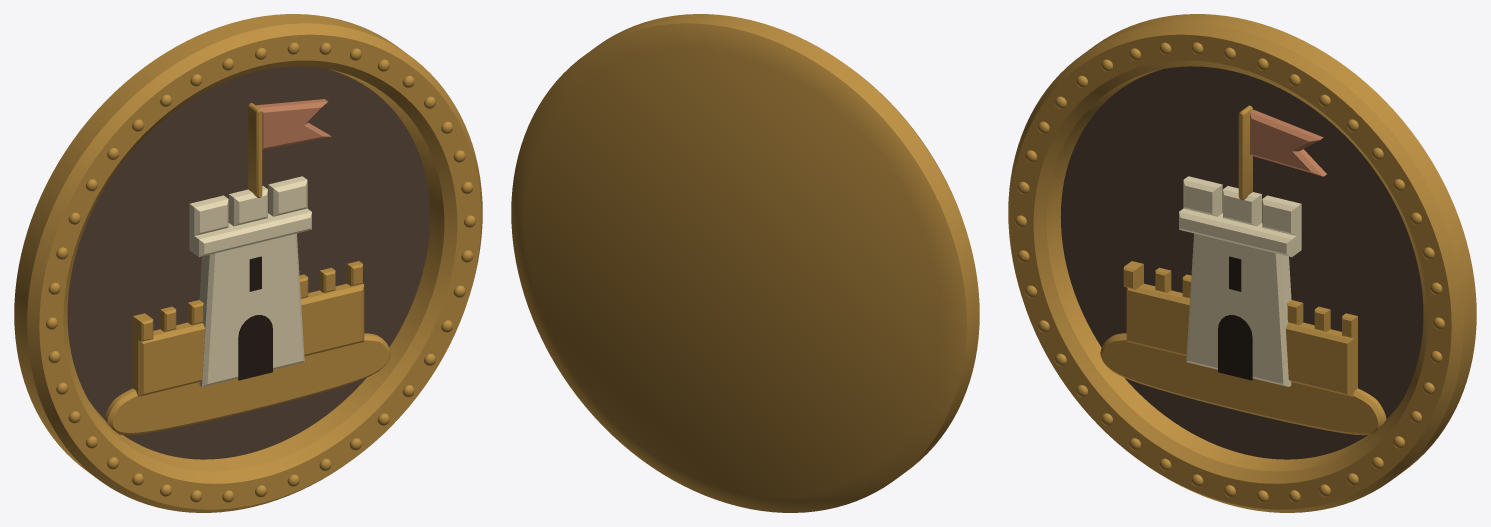
Rendered from human.glb.
The picture shows the model from 3 angles, left to right: view 1: azimuth 30°, elevation 25°; view 2: azimuth 150°, elevation 25°; view 3: azimuth 330°, elevation 25°; orthographic projection.
Parts seen in each view (by area): view 1: emblem-human, emblem-human-unlined; view 2: emblem-human; view 3: emblem-human, emblem-human-unlined.
Boxes of the visible parts, x1,y1,x2,y2 form: emblem-human: (14, 14, 482, 512); emblem-human-unlined: (238, 256, 272, 380); emblem-human: (511, 14, 979, 512); emblem-human: (1008, 14, 1476, 512); emblem-human-unlined: (1218, 256, 1252, 380).
Size of the model in its own units: 0.2128 by 0.2128 by 0.0219.
